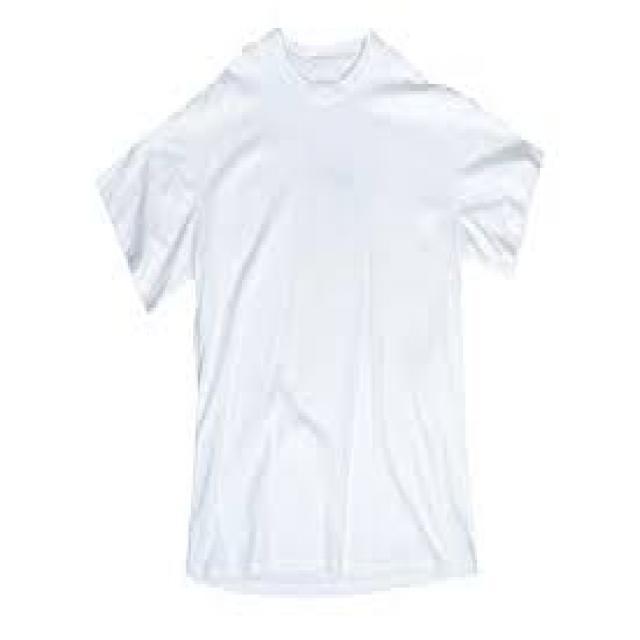Shirt: (86, 9, 548, 617)
